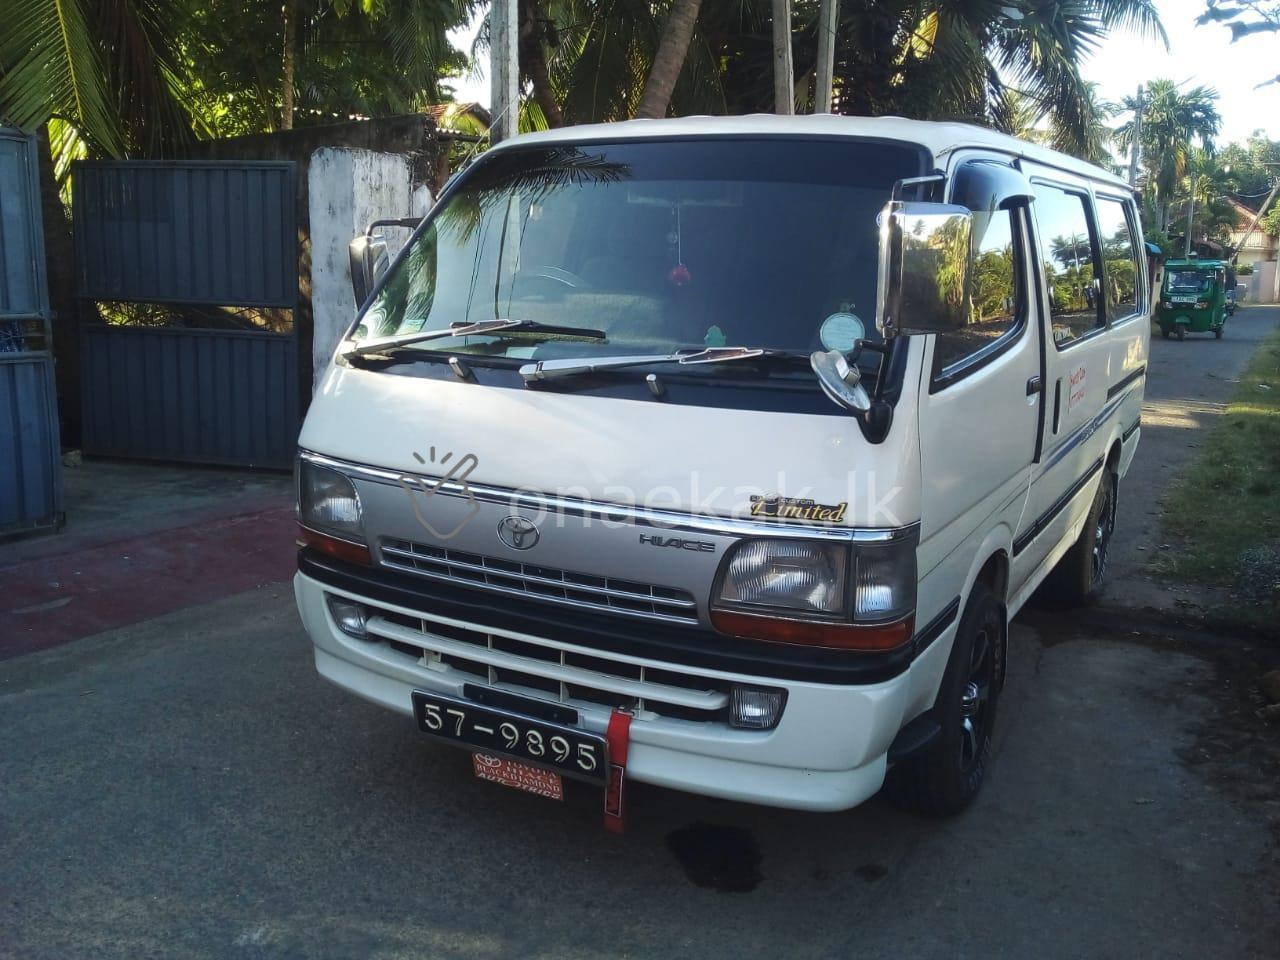car: (297, 103, 1176, 861)
